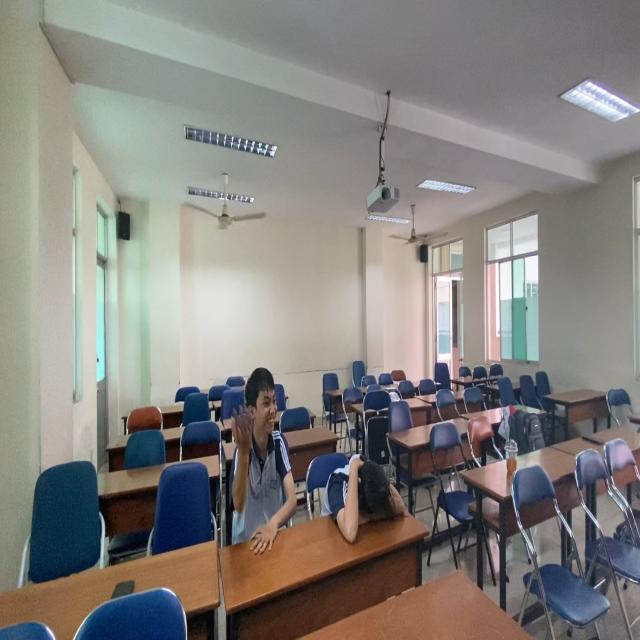sleep: (308, 438, 415, 557)
